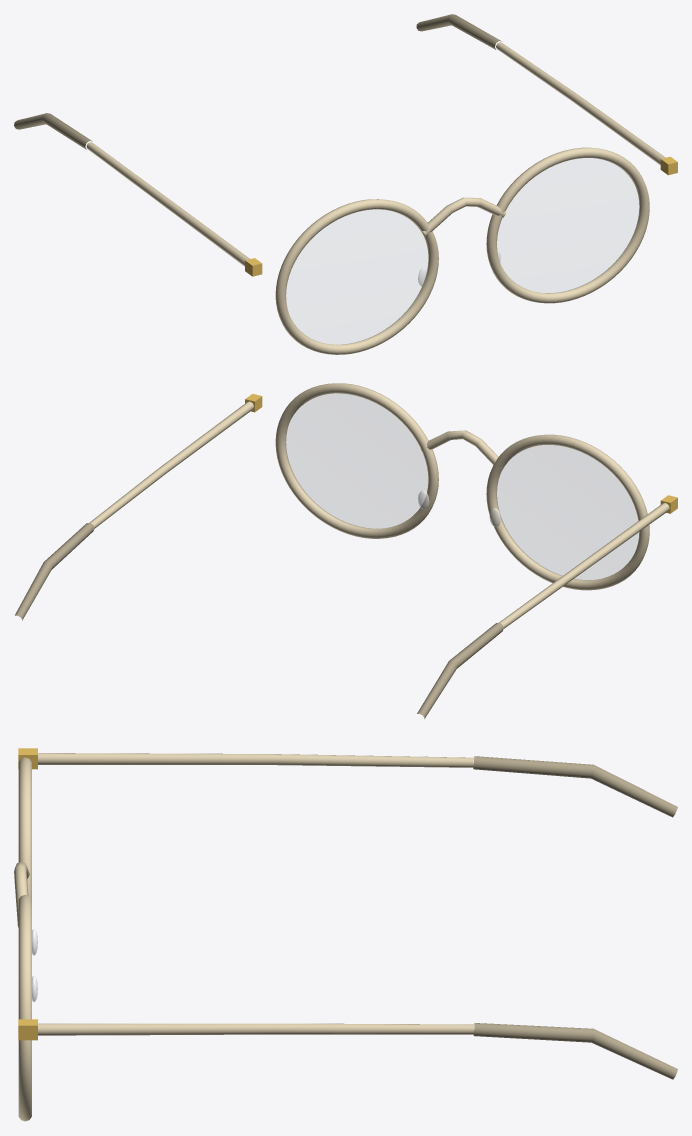
3 renders of one model, top to bottom at view 1: azimuth 30°, elevation 25°; view 2: azimuth 150°, elevation 25°; view 3: azimuth 270°, elevation 25°, orthographic. The views are drawn at different scales.
Visible parts, largest first — view 1: Lens_L, Lens_R, Rim_L, Rim_R, Temple_R, Temple_L, TempleTip_R, TempleTip_L, Bridge; view 2: Lens_R, Lens_L, Rim_R, Rim_L, Temple_L, Temple_R, TempleTip_L, TempleTip_R, Bridge; view 3: Temple_R, Temple_L, TempleTip_L, TempleTip_R, Rim_R, Rim_L.
Boxes of the visible parts, x1=… form: Lens_L: x1=286, y1=209, x2=428, y2=344; Lens_R: x1=497, y1=158, x2=639, y2=292; Rim_L: x1=275, y1=199, x2=438, y2=354; Rim_R: x1=486, y1=147, x2=649, y2=303; Temple_R: x1=496, y1=42, x2=665, y2=164; Temple_L: x1=86, y1=142, x2=249, y2=266; TempleTip_R: x1=416, y1=14, x2=501, y2=49; TempleTip_L: x1=14, y1=113, x2=92, y2=149; Bridge: x1=422, y1=197, x2=505, y2=236; Lens_R: x1=285, y1=393, x2=427, y2=528; Lens_L: x1=496, y1=445, x2=638, y2=579; Rim_R: x1=275, y1=383, x2=438, y2=538; Rim_L: x1=486, y1=434, x2=649, y2=590; Temple_L: x1=499, y1=503, x2=669, y2=628; Temple_R: x1=90, y1=401, x2=253, y2=528; TempleTip_L: x1=417, y1=622, x2=503, y2=718; TempleTip_R: x1=15, y1=522, x2=94, y2=620; Bridge: x1=420, y1=430, x2=501, y2=469; Temple_R: x1=38, y1=1023, x2=473, y2=1035; Temple_L: x1=38, y1=753, x2=473, y2=767; TempleTip_L: x1=473, y1=756, x2=677, y2=817; TempleTip_R: x1=473, y1=1023, x2=677, y2=1079; Rim_R: x1=18, y1=894, x2=31, y2=1121; Rim_L: x1=18, y1=757, x2=31, y2=898.
Bounding box in the file's own units: 2.66 × 0.8987 × 2.69.
